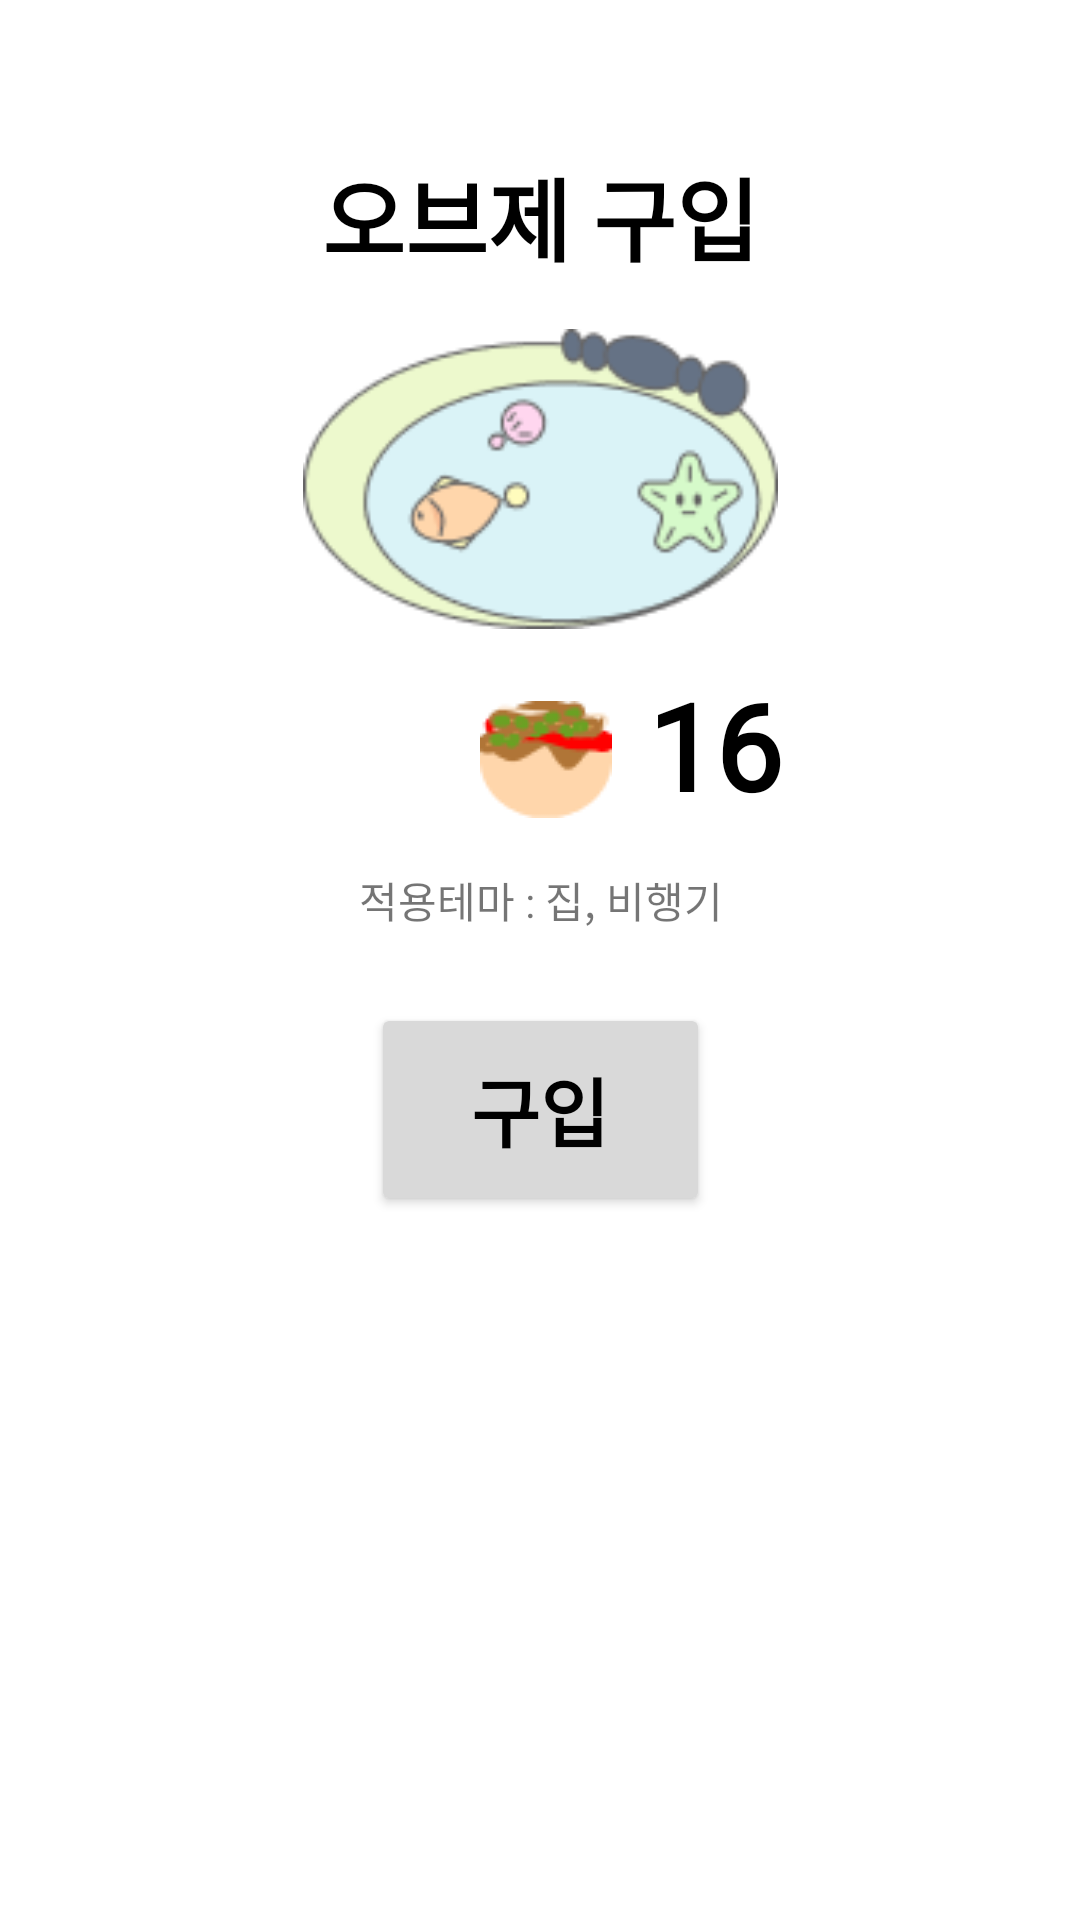

Screen size 1080 x 1920. Icon name, then its box in pixels as (x1, y1, x2, y2):
object buy taco: (480, 701, 612, 818)
